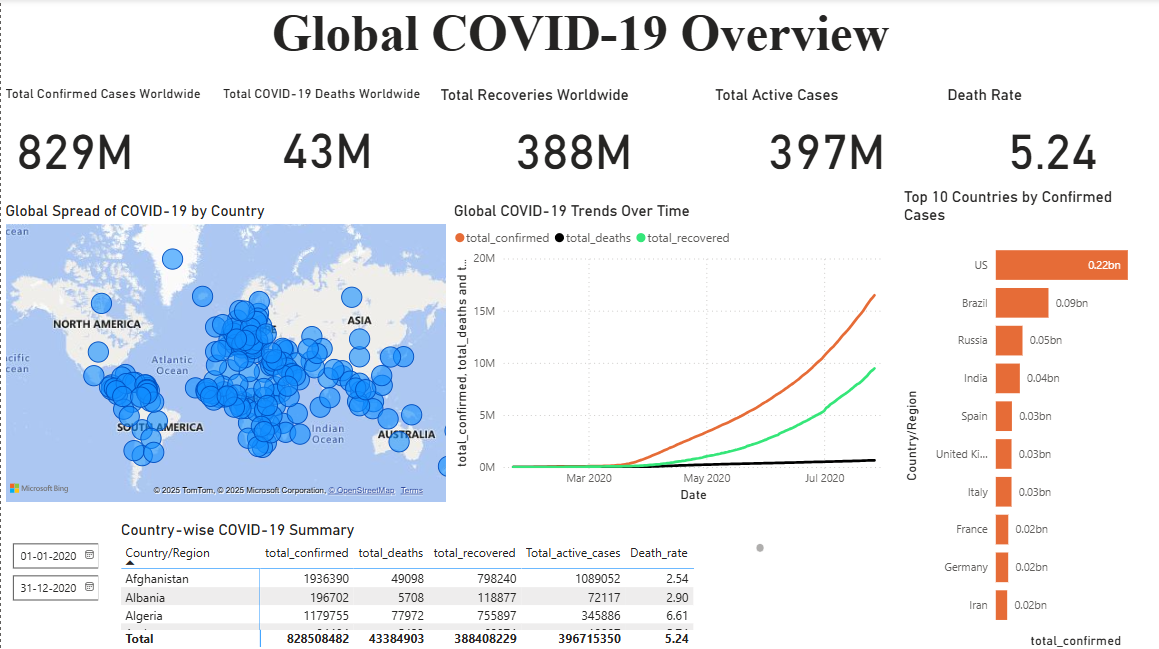

The page's visual inventory and layout, read from the dashboard file:
{"tool":"powerbi","page":{"name":"Golbal overview","canvas":[1280,720],"ordinal":0},"visuals":[{"type":"cardVisual","title":"\tTotal Confirmed Cases Worldwide","fields":{"Data":["full_grouped.total_confirmed"]},"box":[0,96,240,112],"z":0,"group":"g1"},{"type":"group","id":"g1","title":"Group 1","box":[0,96,1280,112],"z":0},{"type":"card","title":"Total COVID-19 Deaths Worldwide","fields":{"Values":["full_grouped.total_deaths"]},"box":[240,96,240,112],"z":1000,"group":"g1"},{"type":"map","title":"Global Spread of COVID-19 by Country","fields":{"Category":["country_wise_latest.Country/Region"],"Size":["full_grouped.total_confirmed"]},"box":[0,224,496,336],"z":1000},{"type":"card","title":"Total Recoveries Worldwide","fields":{"Values":["full_grouped.total_recovered"]},"box":[480,96,304,112],"z":2000,"group":"g1"},{"type":"lineChart","title":"Global COVID-19 Trends Over Time","fields":{"Category":["DateTable.Date"],"Y":["full_grouped.total_confirmed","full_grouped.total_deaths","full_grouped.total_recovered"]},"box":[496,224,496,336],"z":2000},{"type":"card","title":"Total Active Cases","fields":{"Values":["full_grouped.Total_active_cases"]},"box":[784,96,256,112],"z":3000,"group":"g1"},{"type":"slicer","fields":{"Values":["DateTable.Date"]},"box":[0,592,112,96],"z":3000},{"type":"textbox","box":[0,0,1280,80],"z":4000},{"type":"card","title":"Death Rate","fields":{"Values":["full_grouped.Death_rate"]},"box":[1040,96,240,112],"z":4000,"group":"g1"},{"type":"clusteredBarChart","title":"Top 10 Countries by Confirmed Cases","fields":{"Category":["full_grouped.Country/Region"],"Y":["full_grouped.total_confirmed"]},"box":[992,208,288,512],"z":5000},{"type":"pivotTable","title":"Country-wise COVID-19 Summary","fields":{"Rows":["full_grouped.Country/Region"],"Values":["full_grouped.total_confirmed","full_grouped.total_deaths","full_grouped.total_recovered","full_grouped.Total_active_cases","full_grouped.Death_rate"]},"box":[128,576,720,144],"z":6000}]}

Visuals, with their boxes in screenshot pixels (x1, y1, x2, y2), scaled from the page's 1280x720 canvas onto the 1159x649 screenshot:
"	Total Confirmed Cases Worldwide" cardVisual: <box>0,87,217,187</box>
"Group 1" group: <box>0,87,1158,187</box>
"Total COVID-19 Deaths Worldwide" card: <box>217,87,435,187</box>
"Global Spread of COVID-19 by Country" map: <box>0,202,449,505</box>
"Total Recoveries Worldwide" card: <box>435,87,710,187</box>
"Global COVID-19 Trends Over Time" lineChart: <box>449,202,898,505</box>
"Total Active Cases" card: <box>710,87,942,187</box>
slicer - DateTable.Date: <box>0,534,101,620</box>
textbox: <box>0,0,1158,72</box>
"Death Rate" card: <box>942,87,1158,187</box>
"Top 10 Countries by Confirmed Cases" clusteredBarChart: <box>898,187,1158,648</box>
"Country-wise COVID-19 Summary" pivotTable: <box>116,519,768,648</box>
